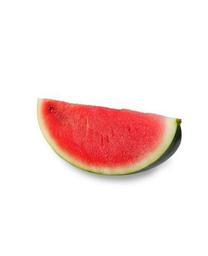watermelon: (32, 94, 187, 176)
